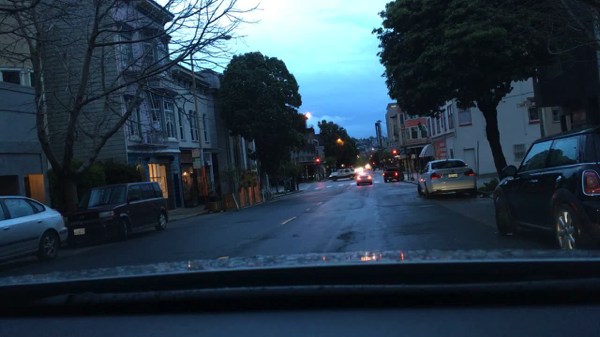car: (491, 124, 599, 250), (68, 181, 169, 249), (0, 195, 69, 266), (417, 157, 477, 200), (328, 168, 356, 181), (382, 167, 404, 183), (356, 172, 373, 186), (354, 167, 364, 171), (367, 167, 371, 170)
traffic light: (416, 121, 422, 131), (392, 149, 396, 154), (316, 158, 319, 162), (372, 162, 375, 164)
traffic sign: (191, 148, 200, 158), (192, 159, 201, 169)
